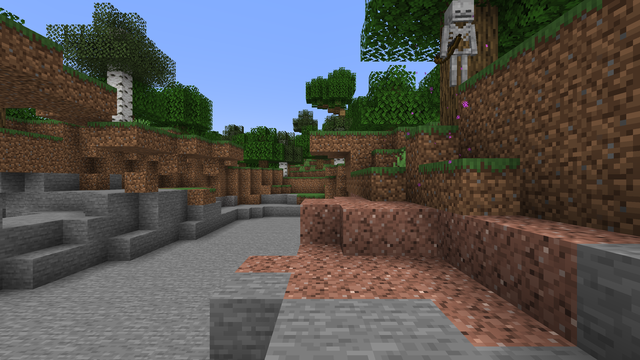squelettes: (440, 3, 476, 89)
